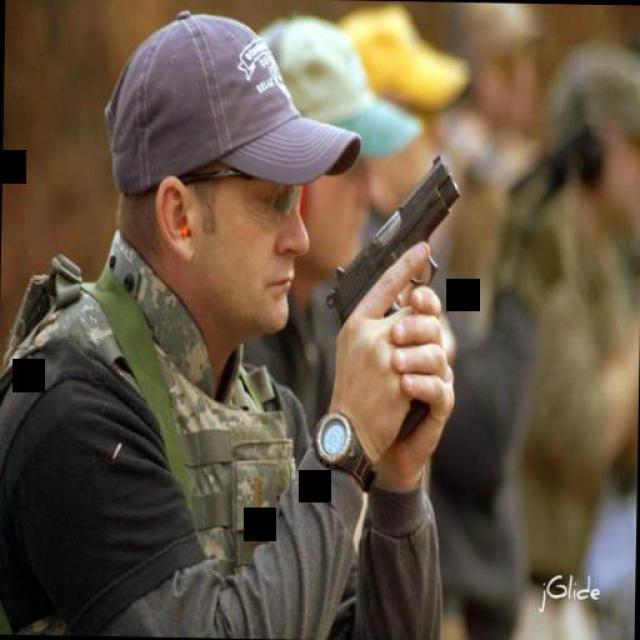gun: (321, 150, 461, 441)
